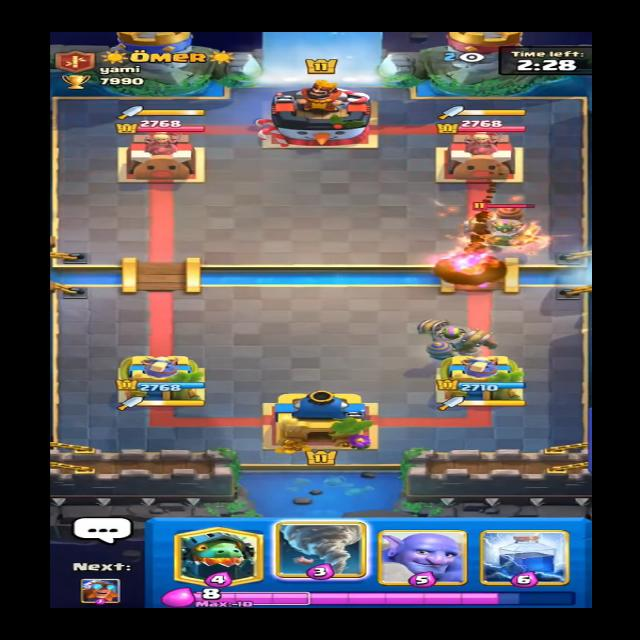goblin-machine: (458, 197, 550, 262)
